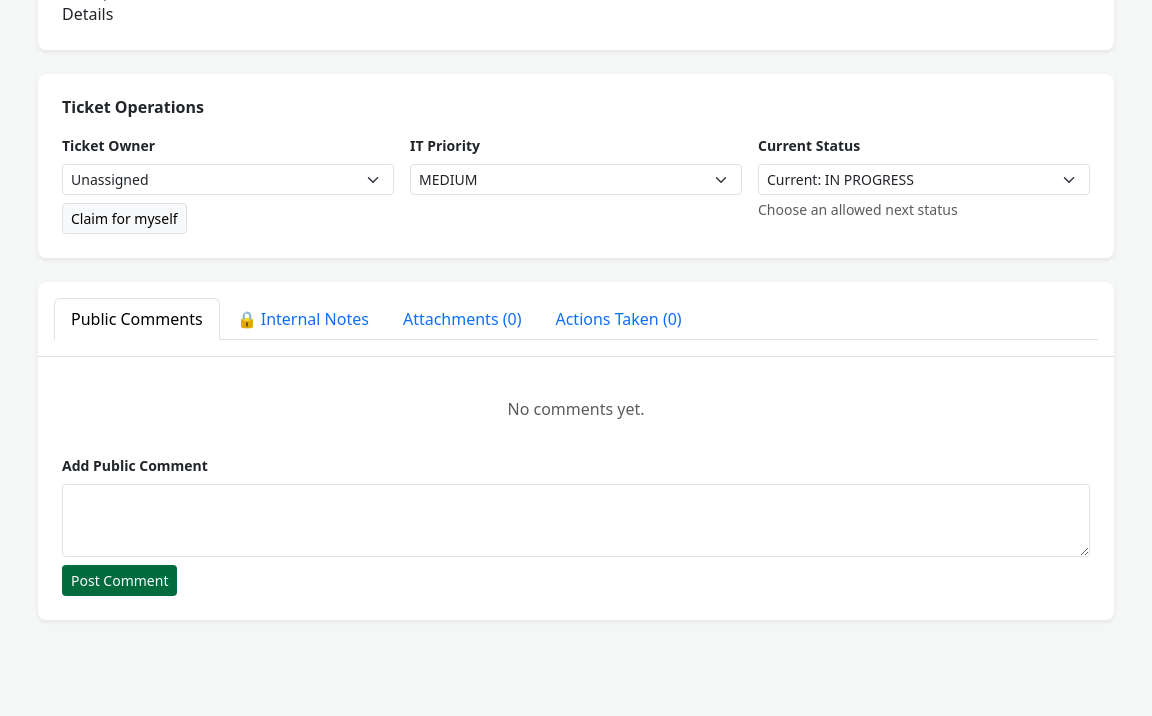
StaffTicketDetailPage › submits public comments and internal notes
(page scrolled)
Type "Public update" into the text box labelled "Add Public Comment". click: (576, 520)
box: 62,484 -> 1090,557
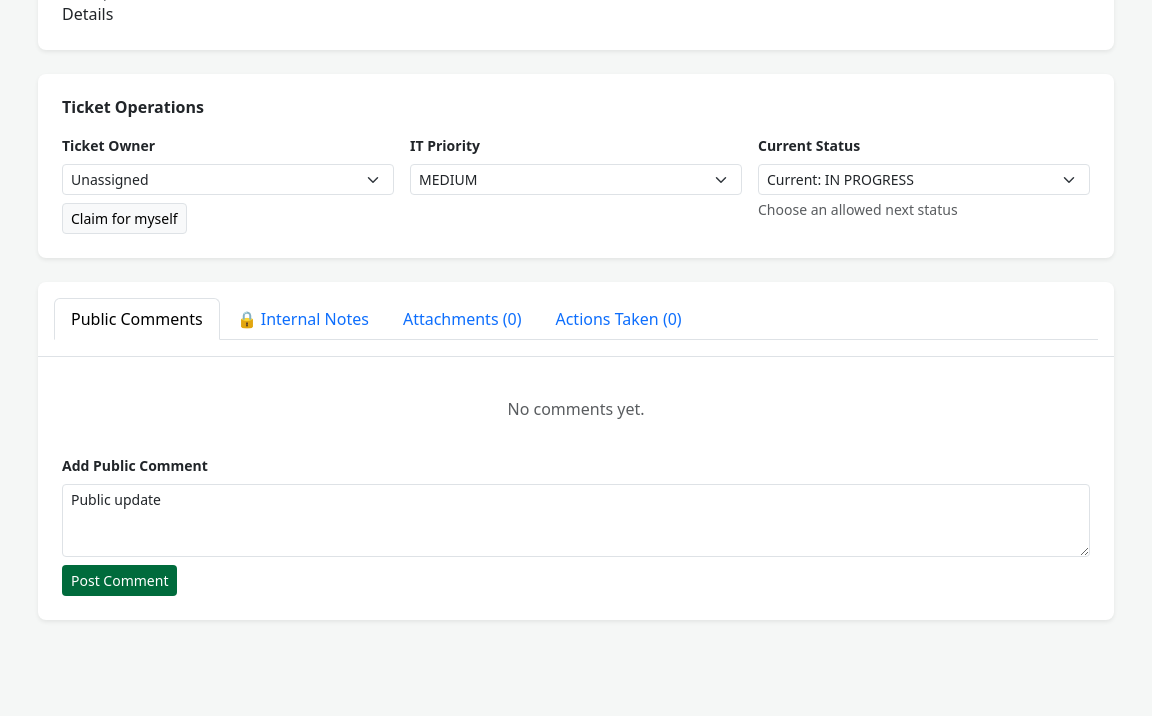
Click the button "Post Comment". click: click(120, 580)
box: 62,565 -> 178,596
(page scrolled)
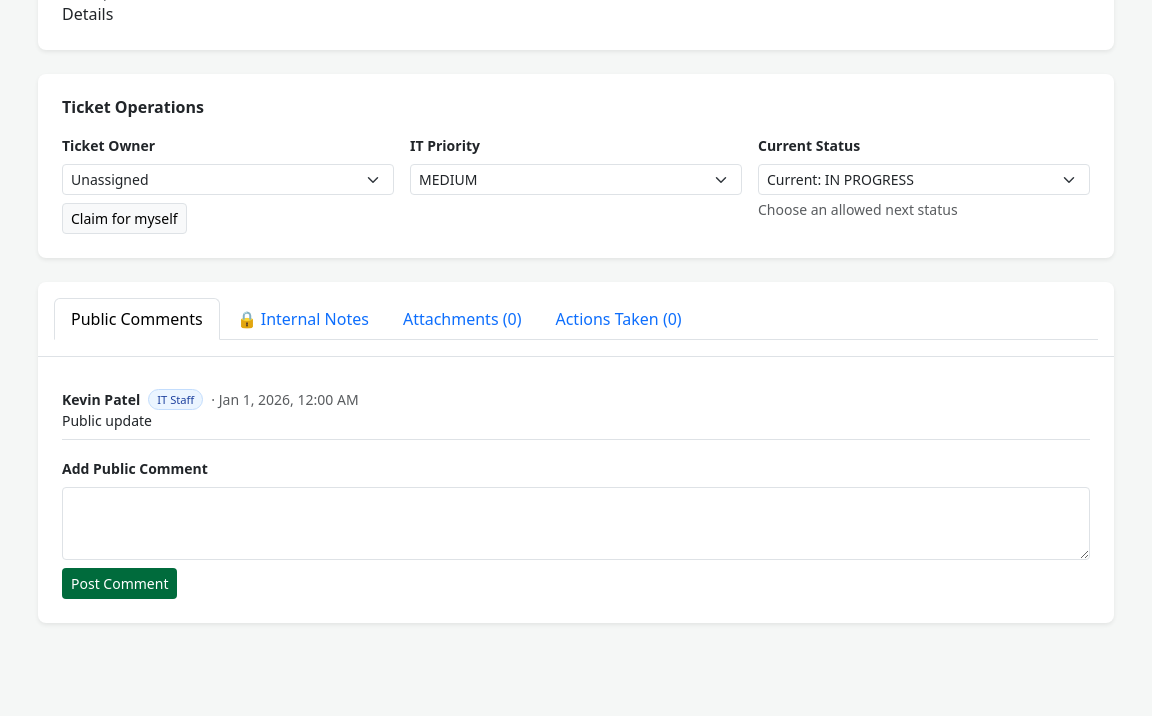
Expected: the text "Public update" is shown, 62,411 -> 152,430
Expected: the text "IT Staff" is shown, 148,389 -> 203,410
Click the tab "🔒 Internal Notes". click: click(303, 319)
box: 220,298 -> 386,340
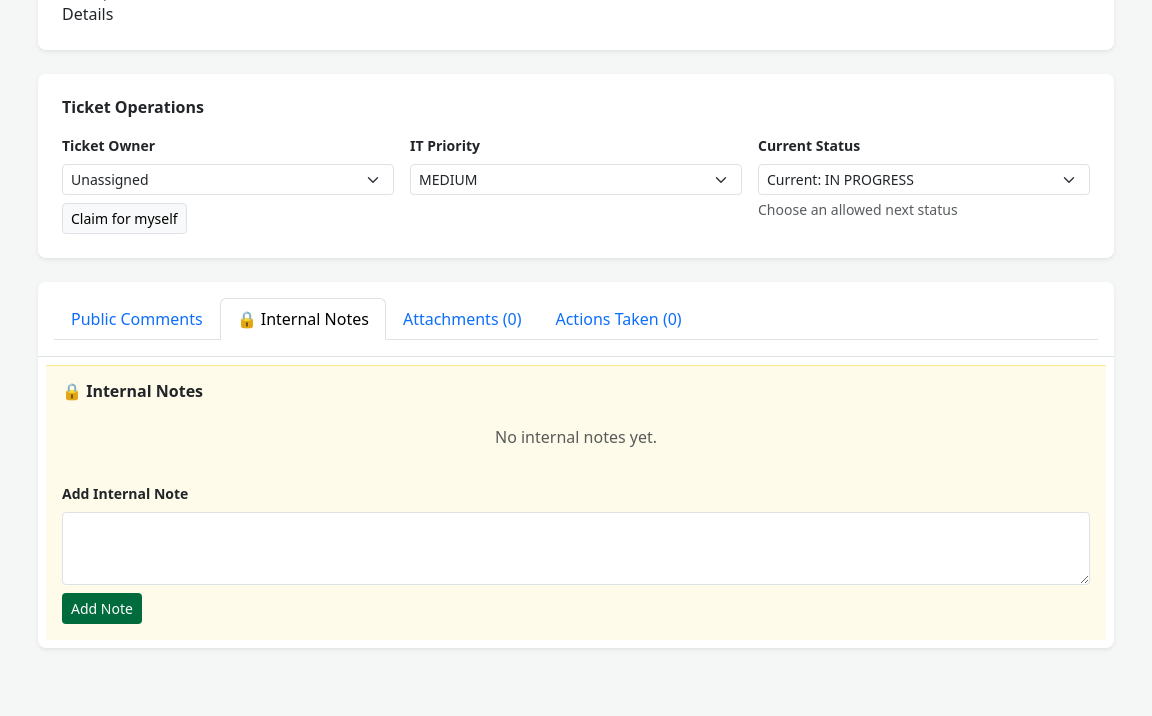
Type "Private handoff" into the text box labelled "Add Internal Note". click: (576, 549)
box: 62,512 -> 1090,585
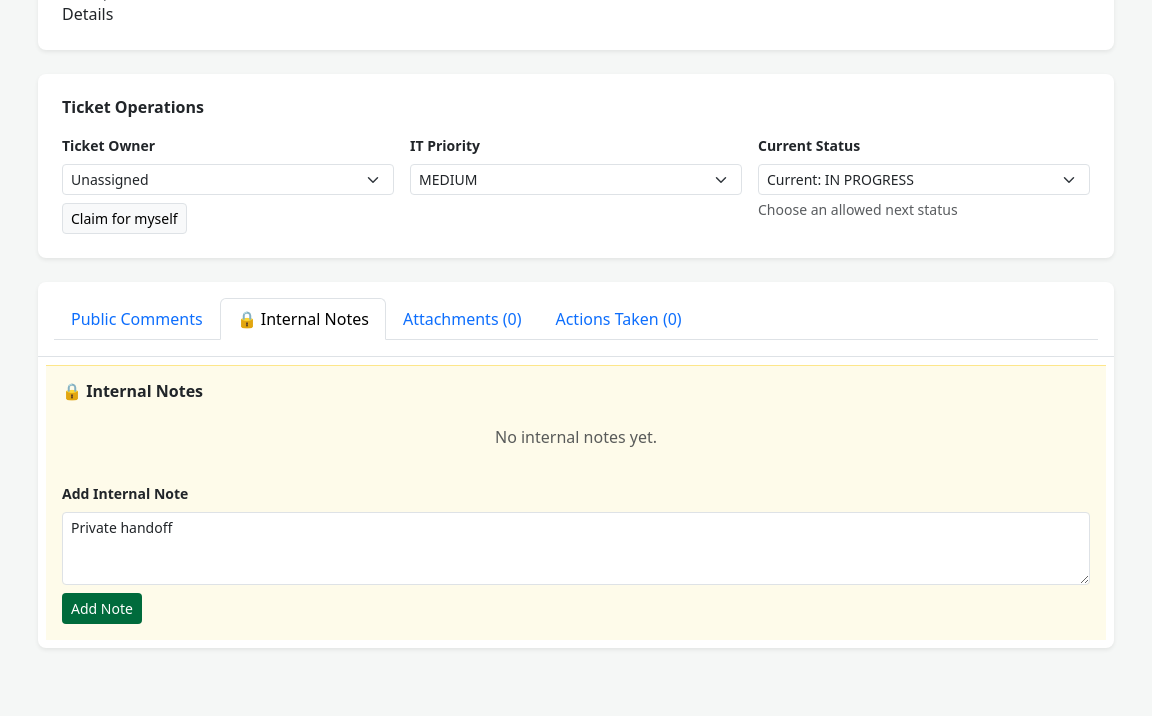
Click the button "Add Note". click: click(102, 609)
box: 62,593 -> 142,624
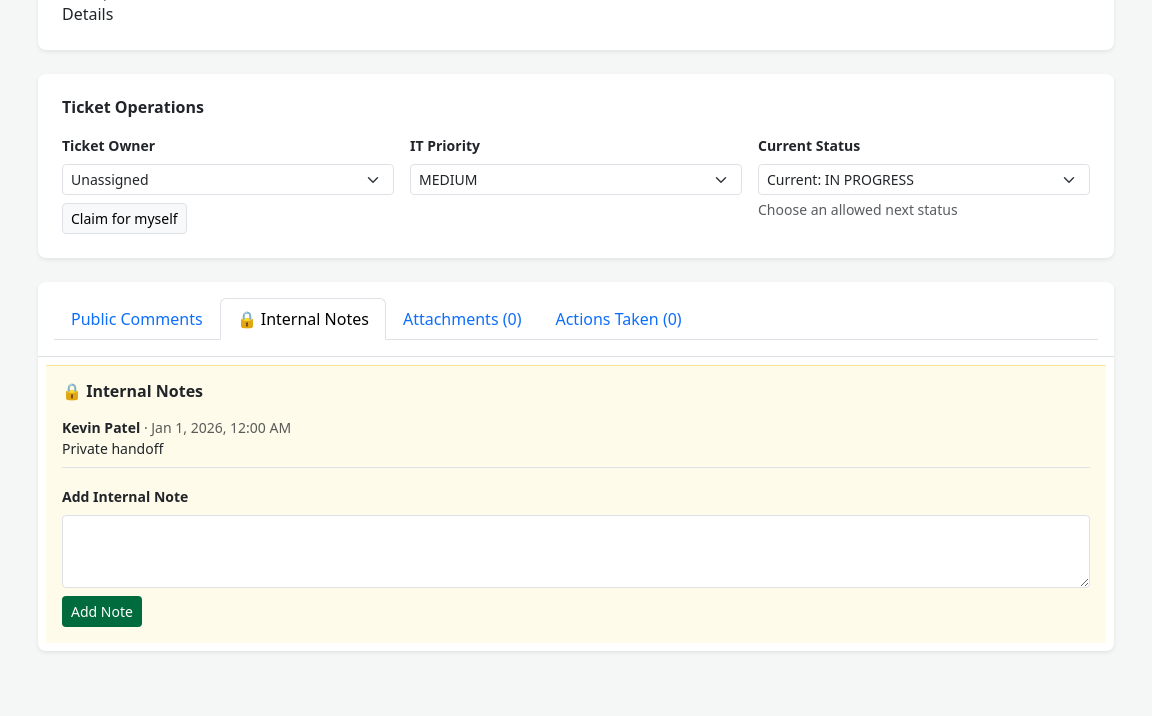
Expected: the text "Private handoff" is shown, 62,439 -> 163,458
